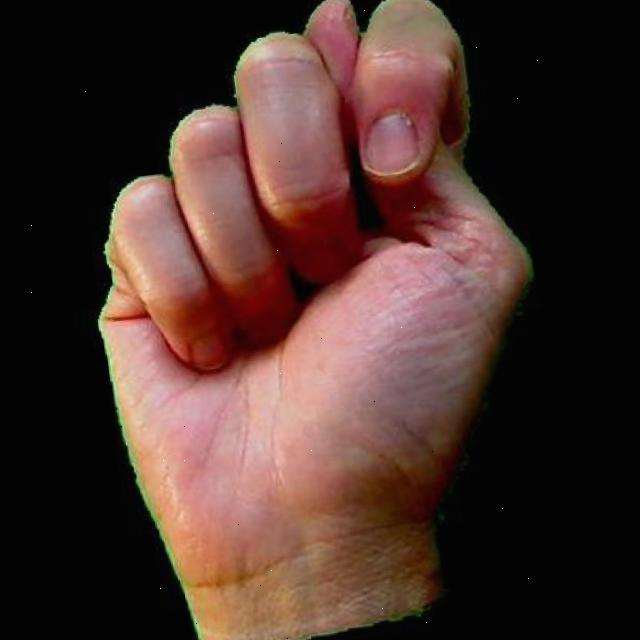t: (36, 0, 573, 640)
